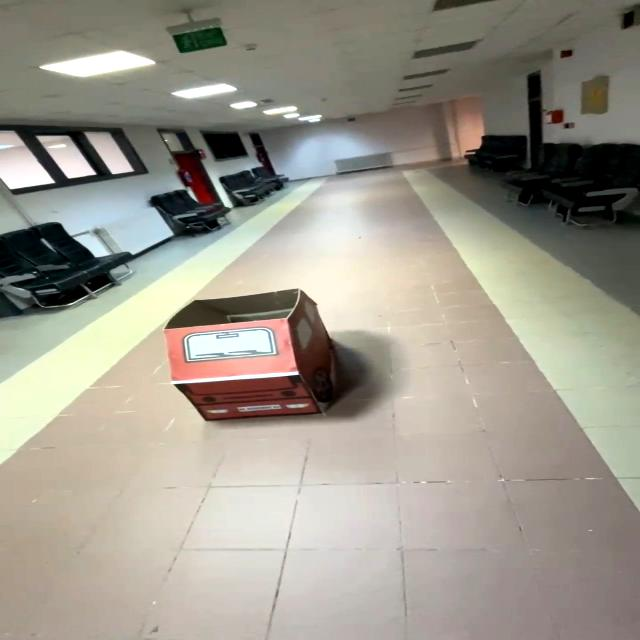red_car: (155, 287, 342, 437)
